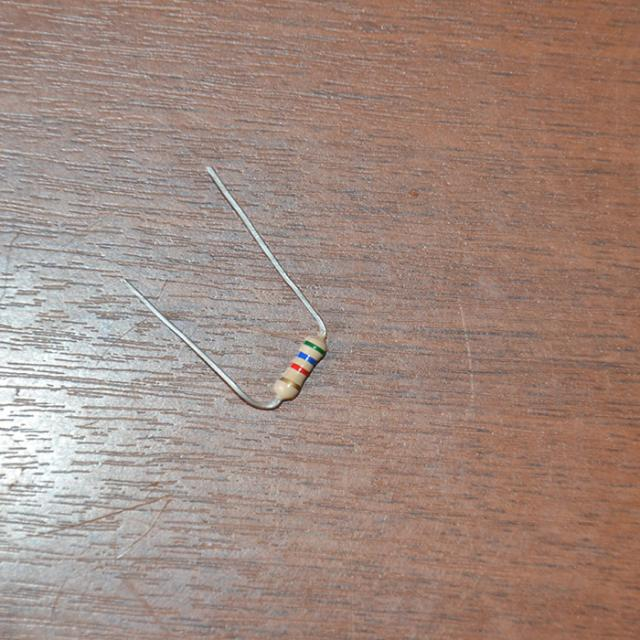blue: (298, 353, 315, 363)
gold: (279, 376, 300, 389)
green: (302, 339, 325, 356)
red: (290, 362, 309, 376)
